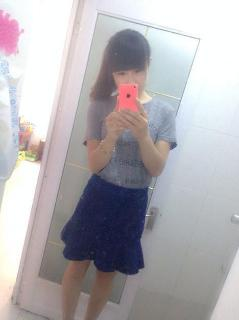short sleeve top: (83, 95, 178, 189)
skirt: (61, 173, 149, 275)
